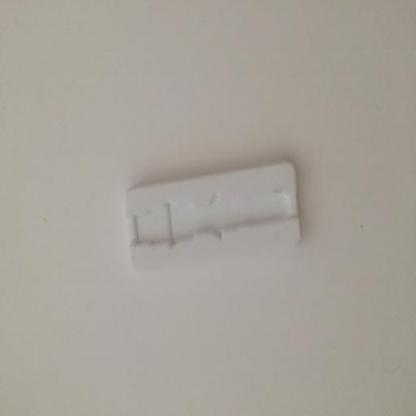trash: (125, 158, 302, 282)
